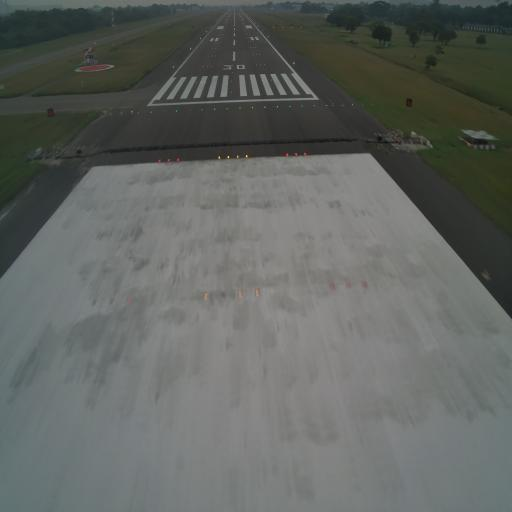off: (479, 265, 490, 283), (106, 292, 117, 310), (90, 294, 100, 313), (218, 289, 228, 303)
on: (201, 291, 212, 308), (234, 287, 244, 303), (328, 278, 338, 294), (344, 277, 353, 293), (124, 293, 132, 310), (252, 288, 261, 302), (360, 277, 368, 292), (302, 149, 307, 159), (216, 153, 222, 161), (226, 153, 232, 161), (174, 157, 180, 164), (167, 155, 171, 164), (236, 152, 240, 161), (157, 157, 162, 163), (245, 153, 249, 160), (293, 151, 297, 158), (285, 152, 289, 158)
